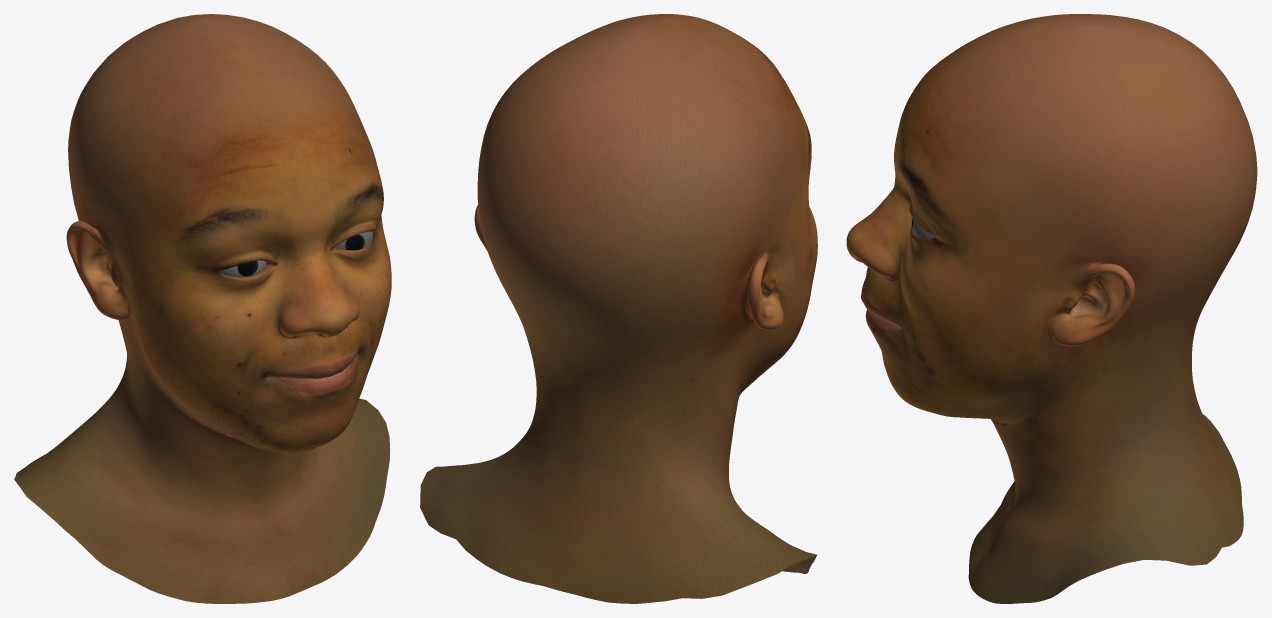
3 renders of one model, left to right at view 1: azimuth 30°, elevation 25°; view 2: azimuth 150°, elevation 25°; view 3: azimuth 270°, elevation 25°, orthographic. The views are drawn at different scales.
Visible parts, largest first — view 1: Registered head, right eye; view 2: Registered head; view 3: Registered head.
Part boxes in pixels (x1,y1,x2,y2): Registered head: [14, 14, 391, 603]; right eye: [220, 260, 266, 277]; Registered head: [420, 14, 817, 603]; Registered head: [846, 14, 1257, 603].
Bounding box in the file's own units: 1.28 × 1.83 × 1.25.
Materials: 3 (3 with a texture image).
